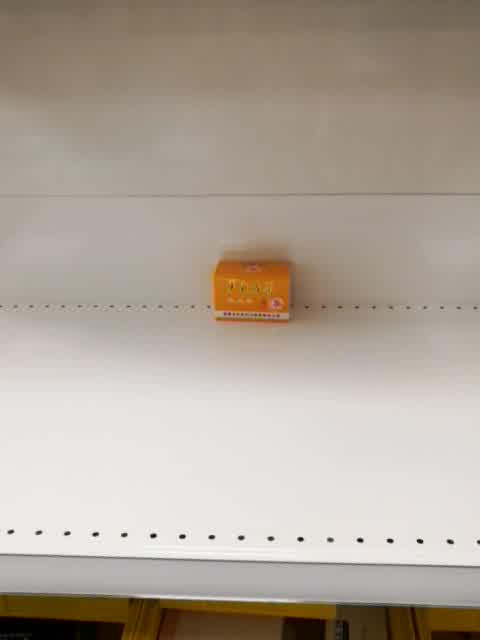jasminetea: (208, 257, 293, 325)
